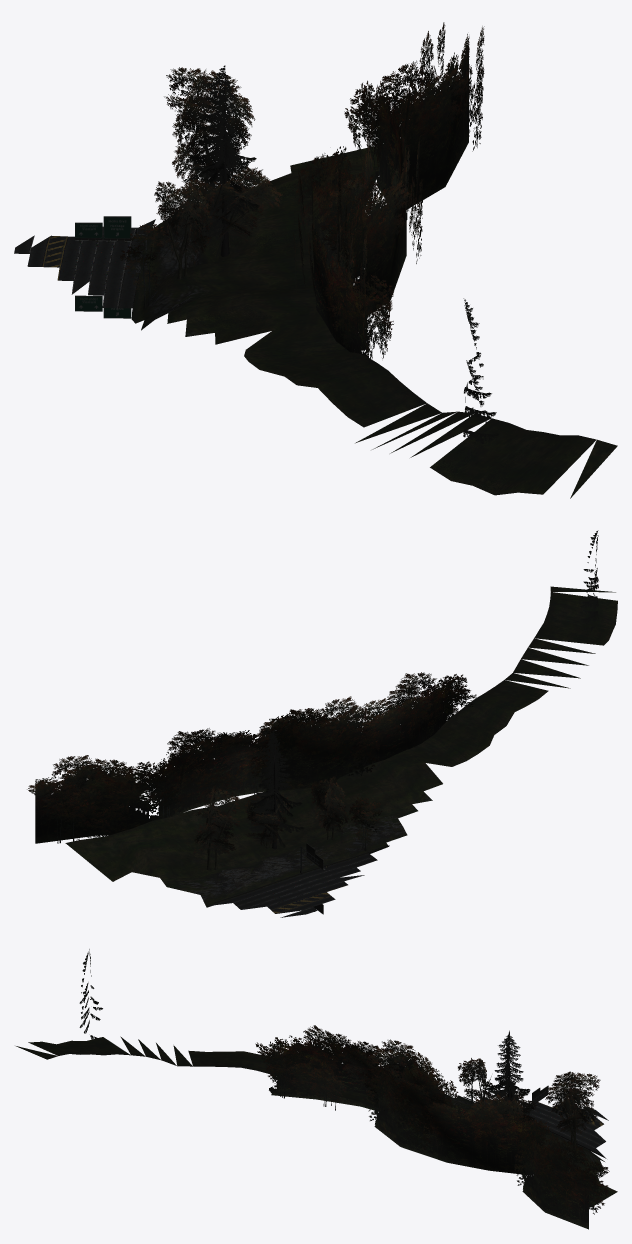
File: cell_-2_-11.gltf
The picture shows the model from 3 angles, top to bottom: view 1: azimuth 30°, elevation 25°; view 2: azimuth 150°, elevation 25°; view 3: azimuth 270°, elevation 25°; orthographic projection. The views are drawn at different scales.
Visible parts, largest first — view 1: cell_-2_-11; view 2: cell_-2_-11; view 3: cell_-2_-11.
Part boxes in pixels (x1,y1,x2,y2): cell_-2_-11: (14, 22, 617, 498); cell_-2_-11: (27, 530, 617, 917); cell_-2_-11: (16, 949, 617, 1229).
Size of the model in its own units: 149 by 91.49 by 273.
Materials: 30 (30 with a texture image).
